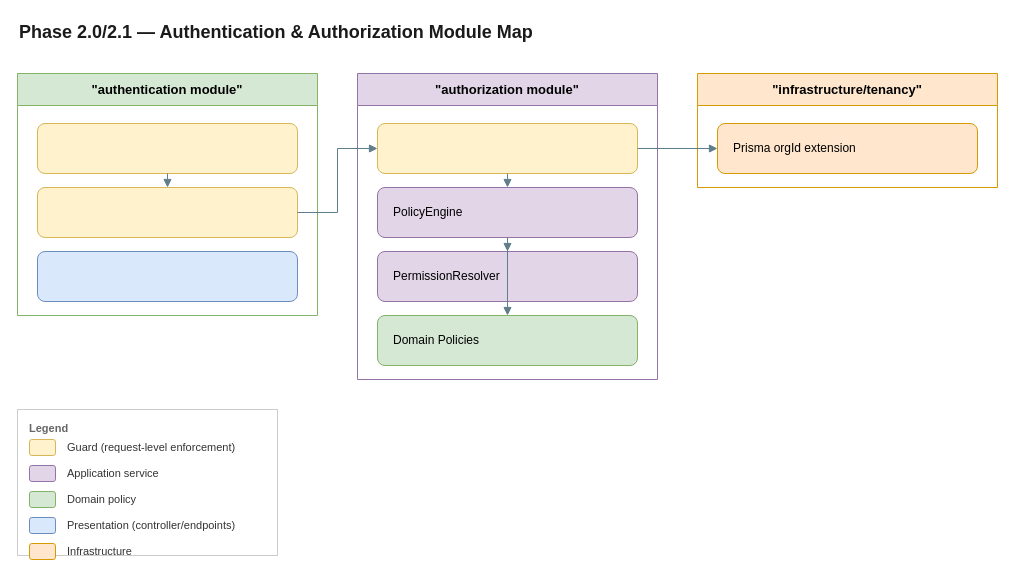
The diagram is 1015 pixels wide and 578 high, and some of its shapes have lost their labels. Here are the shapes that lost their labels. From the top down, the centre of each, then its label:
point (167, 148): JwtAuthGuard
point (507, 148): PermissionsGuard / Scope Guards
point (167, 212): SessionVersionGuard
point (167, 276): Login / Refresh / Logout
